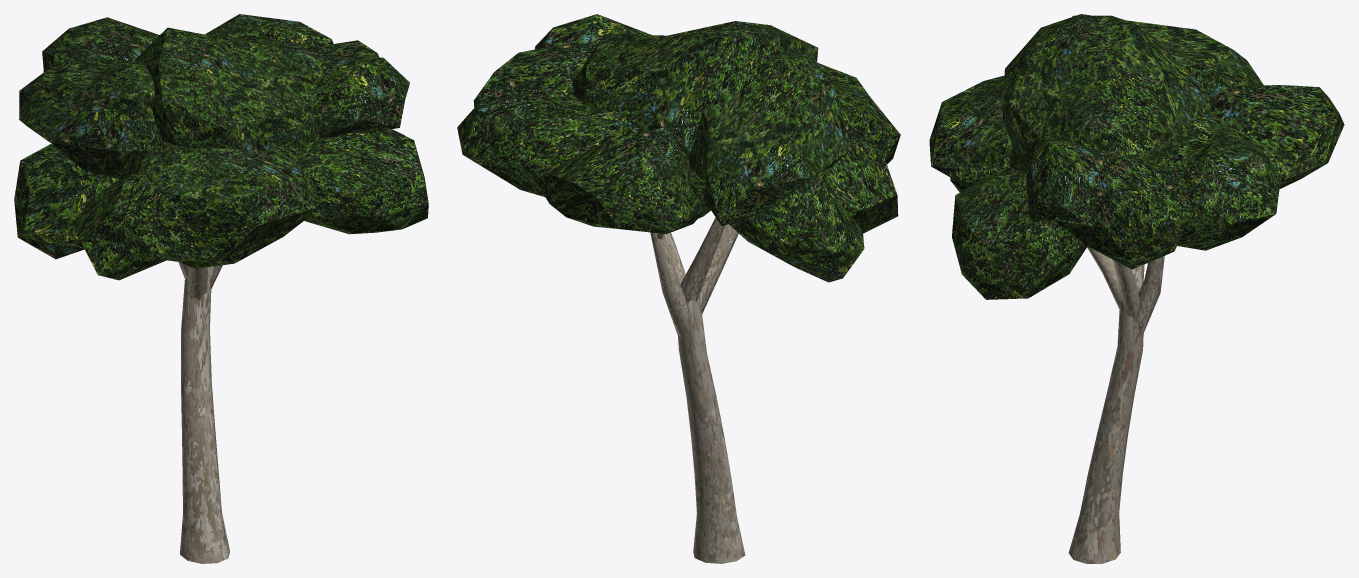
Rendered from Platane_LowPolyA.fbx.
3 views of the same model, side by side, from view 1: azimuth 30°, elevation 25°; view 2: azimuth 150°, elevation 25°; view 3: azimuth 270°, elevation 25° (orthographic). The views are drawn at different scales.
Visible parts, largest first — view 1: Platane_LP_A.001; view 2: Platane_LP_A.001; view 3: Platane_LP_A.001.
Boxes of the visible parts, left/top/right/bottom form: Platane_LP_A.001: left=14, top=14, right=428, bottom=563; Platane_LP_A.001: left=457, top=14, right=900, bottom=563; Platane_LP_A.001: left=929, top=14, right=1344, bottom=563.
Size of the model in its own units: 5.56 by 5.45 by 7.57.
Materials: 2 (2 with a texture image).
